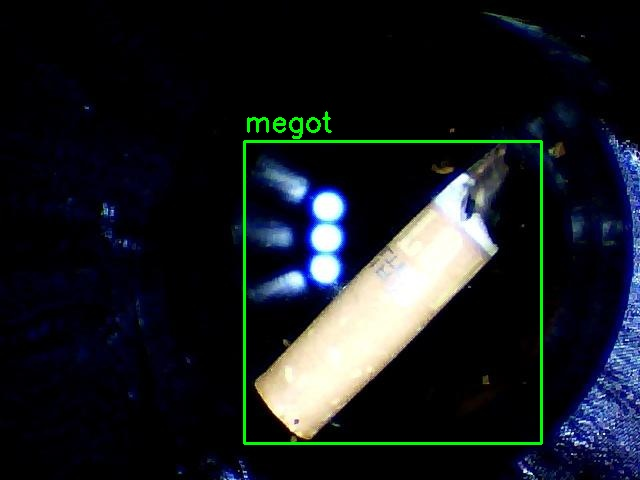megot: (244, 141, 541, 443)
